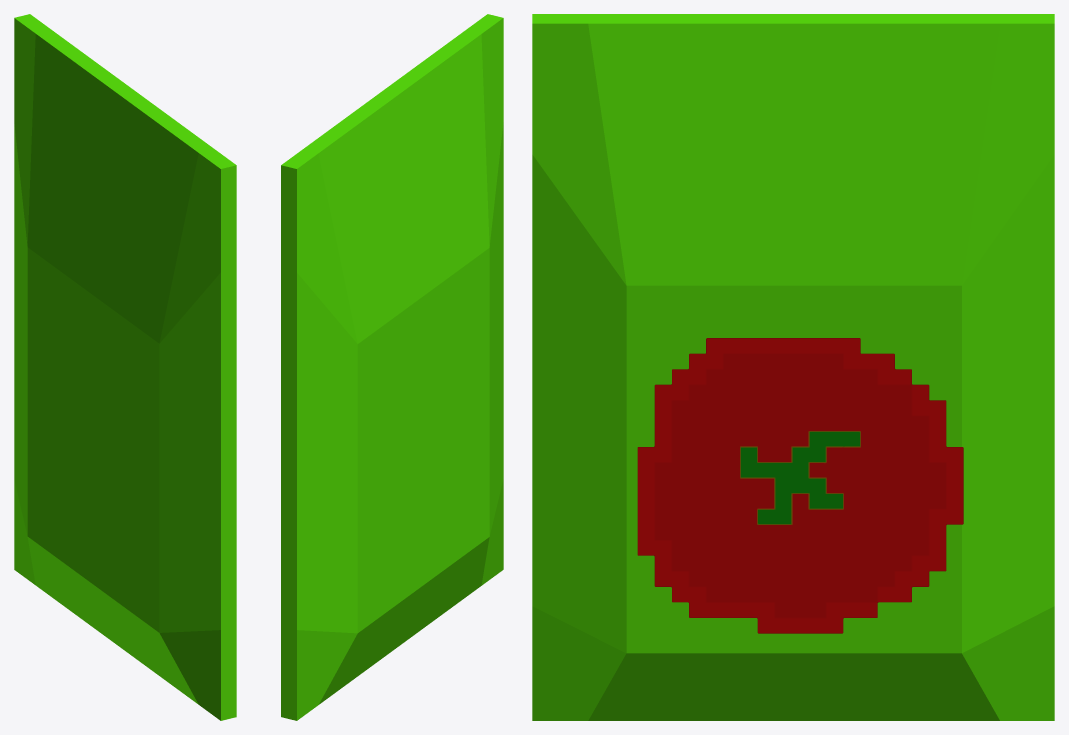
File: TomatoSeeds.fbx
3 renders of one model, left to right at view 1: azimuth 30°, elevation 25°; view 2: azimuth 150°, elevation 25°; view 3: azimuth 270°, elevation 25°, orthographic. The views are drawn at different scales.
Visible parts, largest first — view 1: Cube; view 2: Cube; view 3: Cube.
Part boxes in pixels (box(x1,y1,x2,y2)): Cube: box(14, 14, 236, 720); Cube: box(281, 14, 503, 720); Cube: box(532, 14, 1054, 720).
Bounding box in the file's own units: 22.93 × 184 × 125.
Materials: 2 (1 with a texture image).
